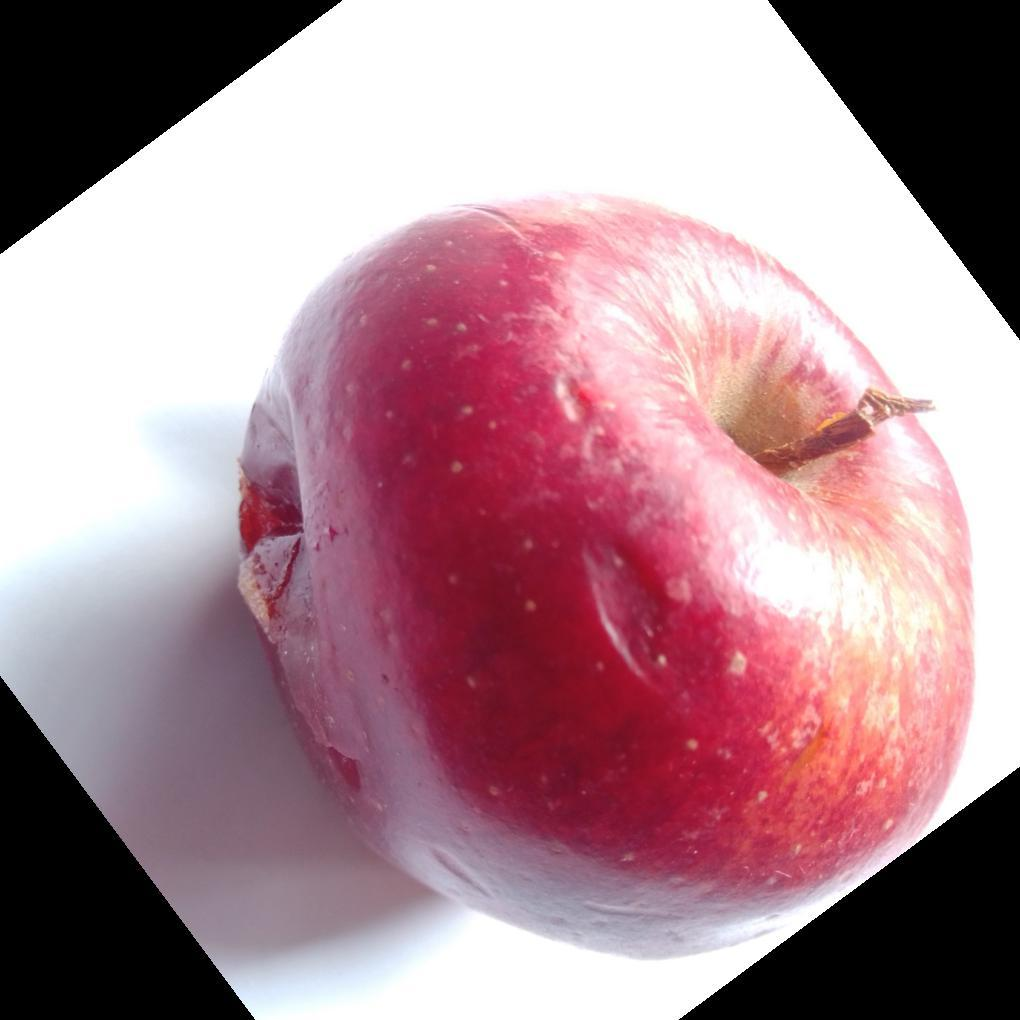FreshOrange: (234, 187, 979, 965)
